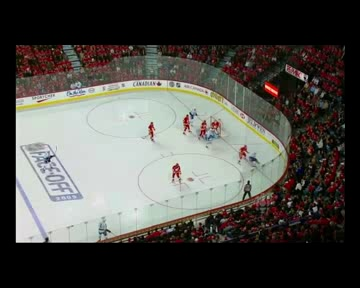normal: (196, 118, 222, 145), (181, 105, 202, 136), (168, 159, 185, 184), (239, 178, 257, 201), (236, 139, 250, 165)
